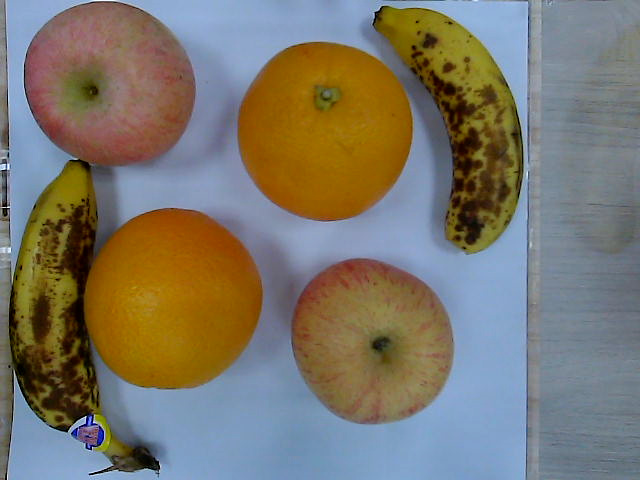fresh_apple: (21, 1, 195, 163), (291, 258, 452, 423)
fresh_orange: (84, 209, 262, 390), (238, 42, 414, 221)
rotten_banana: (9, 164, 163, 475), (372, 6, 525, 254)
